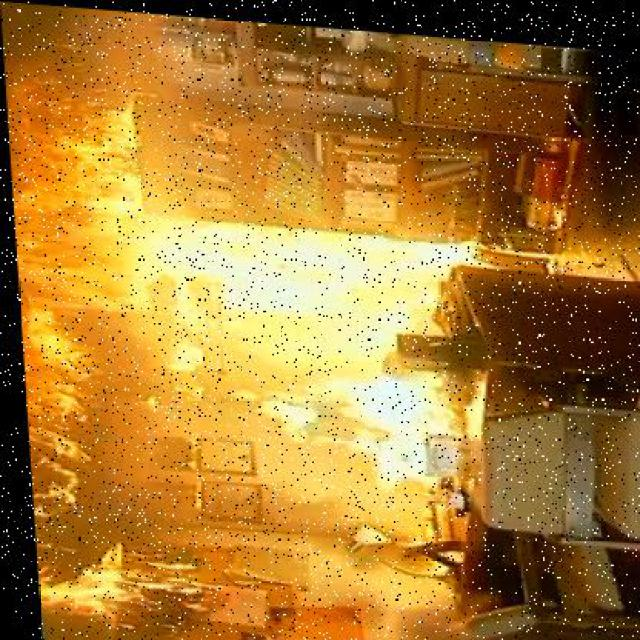fire: (144, 217, 430, 474), (6, 86, 150, 508), (29, 537, 192, 640)
